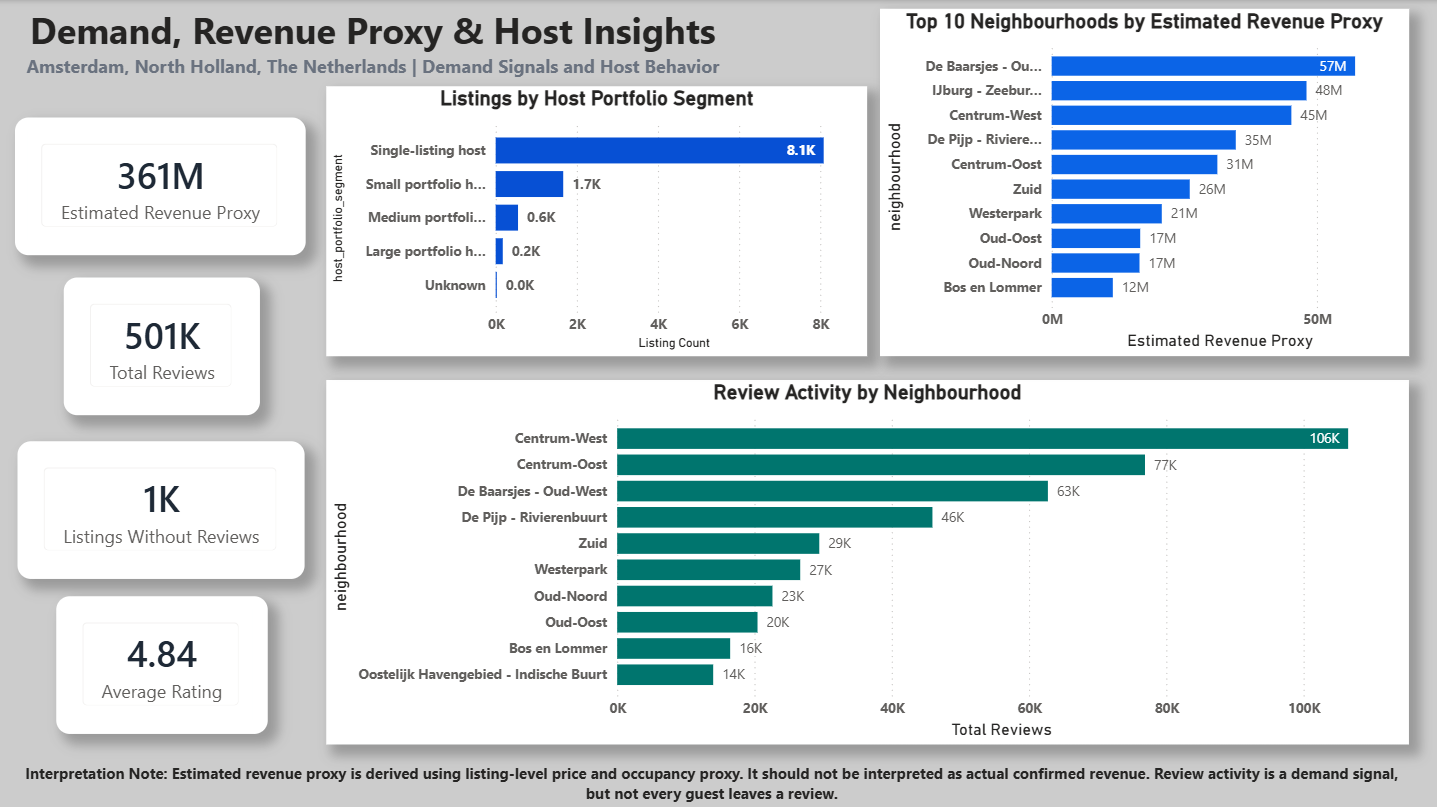

Layout of this report page (visuals, bound fields, positions):
{"tool":"powerbi","page":{"name":"Demand, Revenue Proxy & Host Insights","canvas":[1280,720],"ordinal":1},"visuals":[{"type":"cardVisual","title":"Listings","fields":{"Data":["data_quality_checks_powerbi.Estimated Revenue Proxy"]},"box":[13.8,105,258.1,122.2],"z":0},{"type":"cardVisual","title":"Listings","fields":{"Data":["data_quality_checks_powerbi.Listings Without Reviews"]},"box":[15.3,392.1,255.1,122.2],"z":1000},{"type":"cardVisual","title":"Listings","fields":{"Data":["data_quality_checks_powerbi.Total Reviews"]},"box":[56.6,247,174.1,122.2],"z":2000},{"type":"cardVisual","title":"Listings","fields":{"Data":["data_quality_checks_powerbi.Average Rating"]},"box":[50.4,529.6,187.9,122.2],"z":3000},{"type":"textbox","box":[0,0,662.9,87.1],"z":4000},{"type":"clusteredBarChart","title":"Review Activity by Neighbourhood","fields":{"Category":["listing_master_powerbi.neighbourhood"],"Y":["Sum(listing_master_powerbi.total_reviews)"]},"box":[290.2,337.6,962.3,323.8],"z":5000},{"type":"clusteredBarChart","title":"Listings by Host Portfolio Segment","fields":{"Category":["listing_master_powerbi.host_portfolio_segment"],"Y":["data_quality_checks_powerbi.Listing Count"]},"box":[290.2,76.4,481.1,239.8],"z":6000},{"type":"textbox","box":[13.7,673.6,1238.8,45.8],"z":7000},{"type":"clusteredBarChart","title":"Top 10 Neighbourhoods by Estimated Revenue Proxy","fields":{"Category":["listing_master_powerbi.neighbourhood"],"Y":["data_quality_checks_powerbi.Estimated Revenue Proxy"]},"box":[782.1,7.6,470.5,308.5],"z":8000}]}

Visuals, with their boxes in screenshot pixels (x1, y1, x2, y2), scaled from the page's 1280x720 canvas onto the 1437x807 screenshot:
"Listings" cardVisual: (15,118,305,255)
"Listings" cardVisual: (17,439,304,576)
"Listings" cardVisual: (64,277,259,414)
"Listings" cardVisual: (57,594,268,731)
textbox: (0,0,744,98)
"Review Activity by Neighbourhood" clusteredBarChart: (326,378,1406,741)
"Listings by Host Portfolio Segment" clusteredBarChart: (326,86,866,354)
textbox: (15,755,1406,806)
"Top 10 Neighbourhoods by Estimated Revenue Proxy" clusteredBarChart: (878,9,1406,354)
